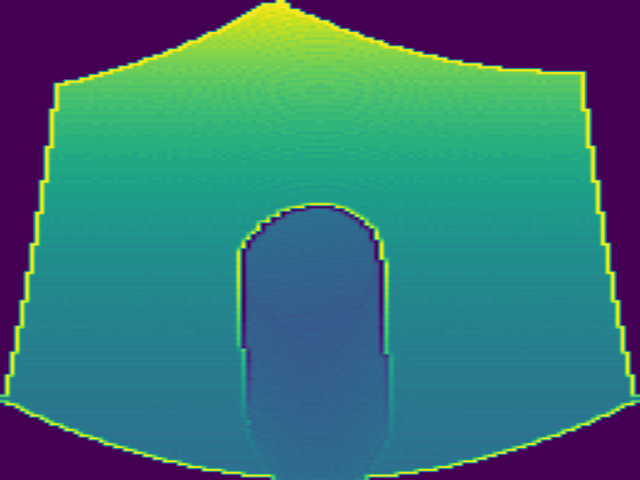cylinder: (235, 203, 395, 480)
